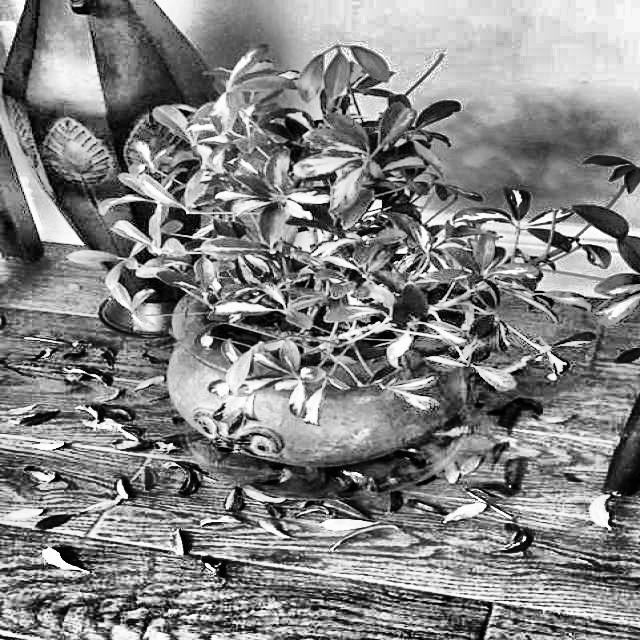plants: (0, 280, 639, 592), (119, 46, 576, 476)
